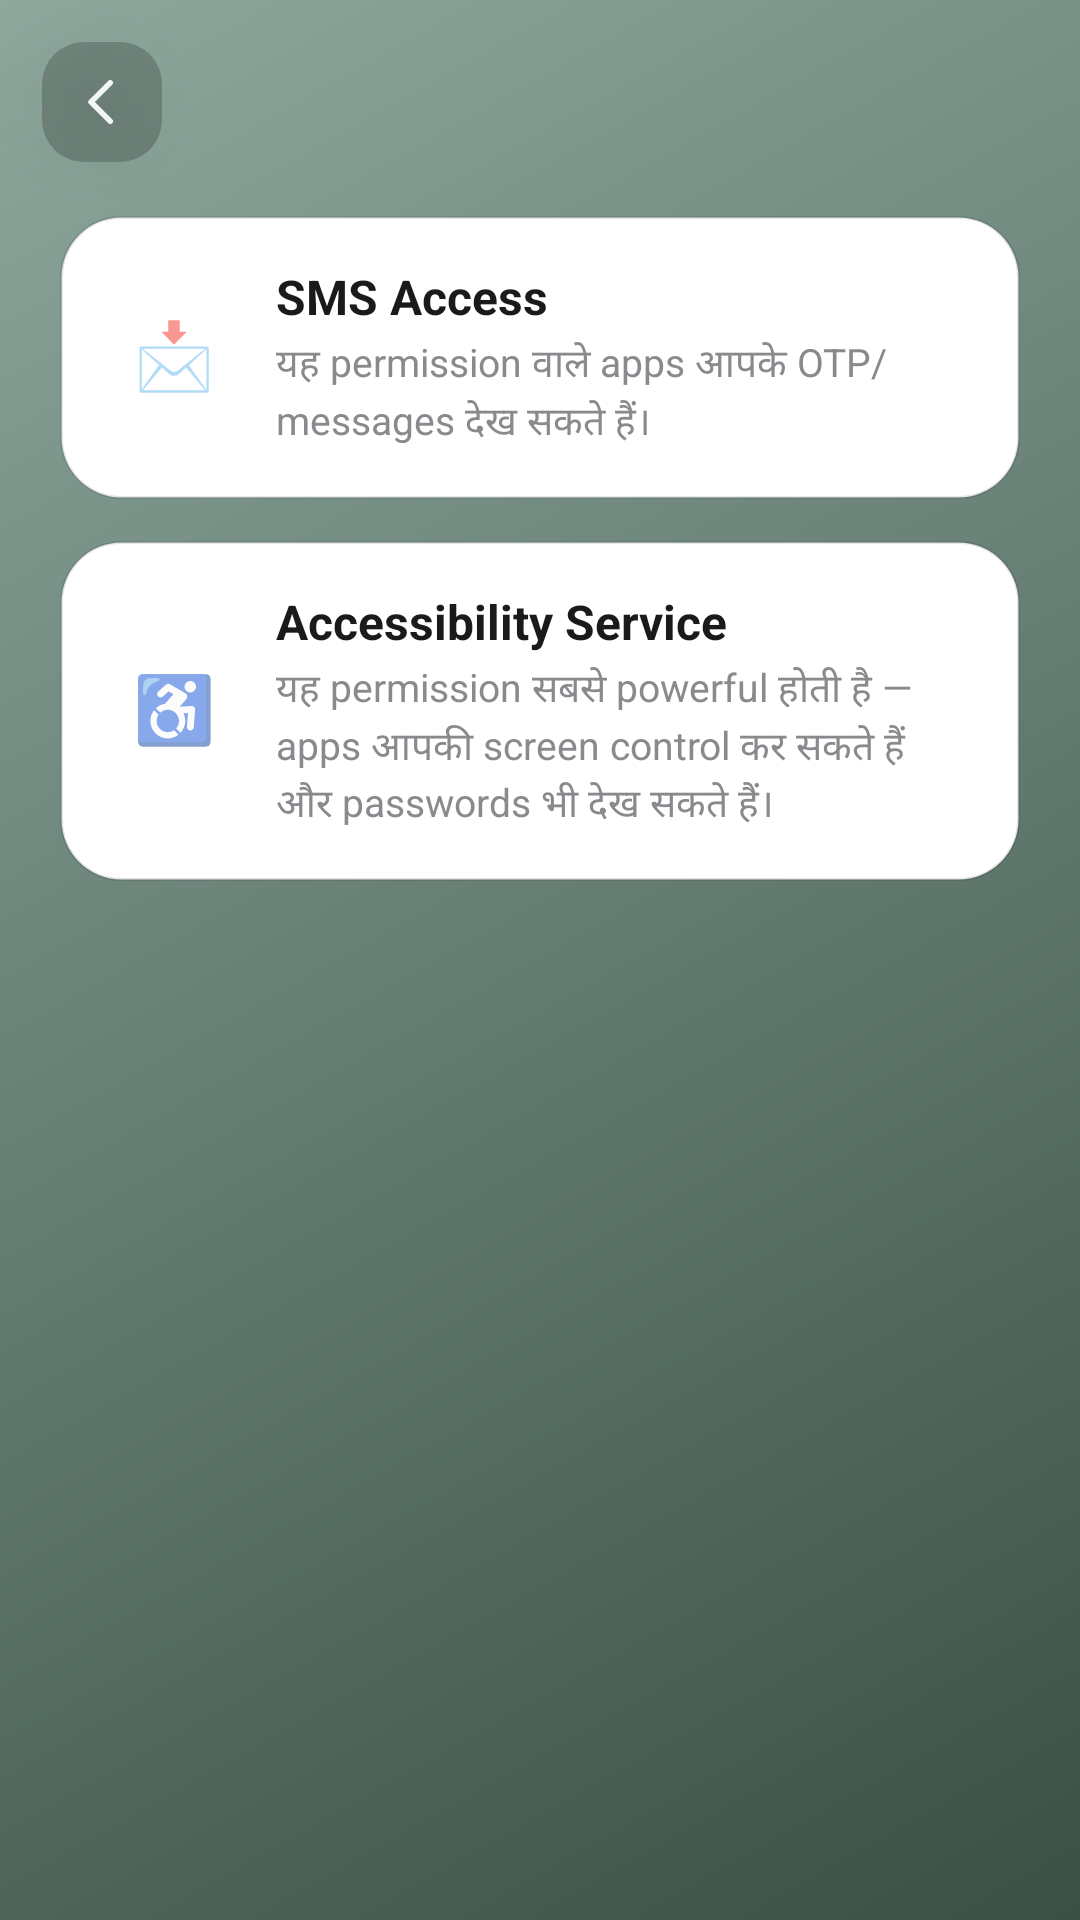

Icons on this 1080×1920 Android screen, each with the point to tap as (x=x, y=y):
back arrow: (x=102, y=102)
